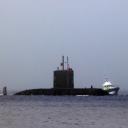submarine: (4, 57, 111, 96)
